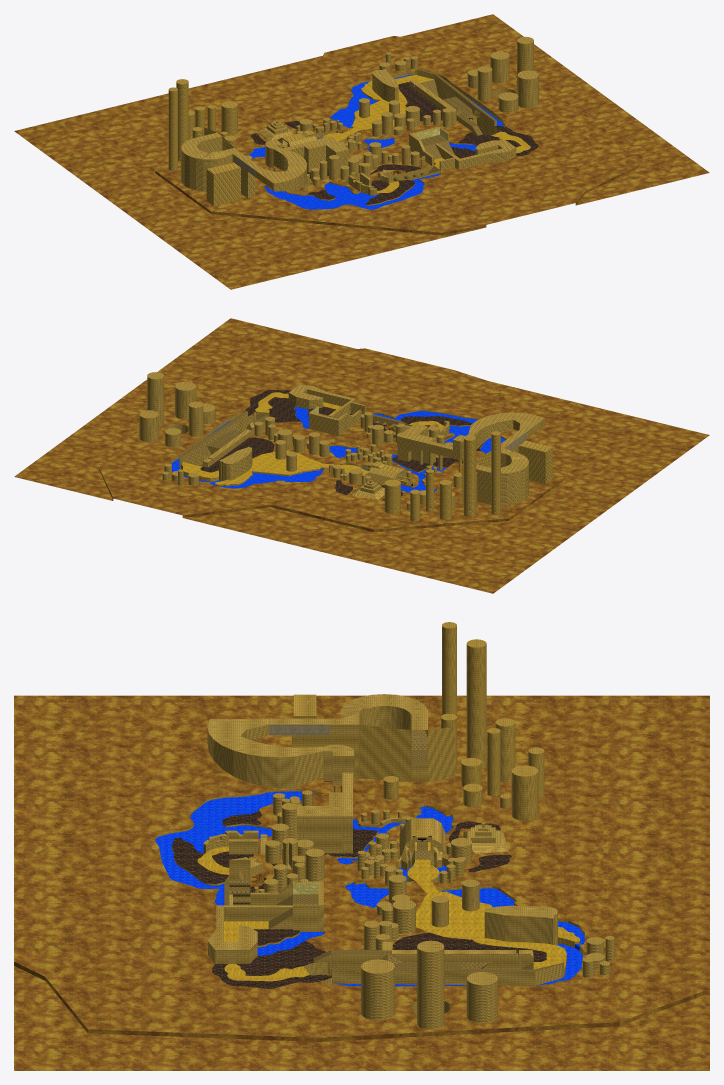
3 renders of one model, top to bottom at view 1: azimuth 30°, elevation 25°; view 2: azimuth 150°, elevation 25°; view 3: azimuth 270°, elevation 25°, orthographic. The views are drawn at different scales.
Parts seen in each view (by area): view 1: Tomb_Of_Anubis_Main-Tile_Limestone_Multi.001, Tomb_Of_Anubis_Main-Material3.001, Tomb_Of_Anubis_Main-Wall.001, Tomb_Of_Anubis_Main-Material9.001, Tomb_Of_Anubis_Main-Material10.001, Tomb_Of_Anubis_Main-Material8.001, Tomb_Of_Anubis_Main-Material1.001, Tomb_Of_Anubis_Main-Tile_Ceramic_Natural.001; view 2: Tomb_Of_Anubis_Main-Tile_Limestone_Multi.001, Tomb_Of_Anubis_Main-Material3.001, Tomb_Of_Anubis_Main-Wall.001, Tomb_Of_Anubis_Main-Material10.001, Tomb_Of_Anubis_Main-Material9.001, Tomb_Of_Anubis_Main-Material1.001, Tomb_Of_Anubis_Main-Material8.001, Tomb_Of_Anubis_Main-Tile_Ceramic_Natural.001; view 3: Tomb_Of_Anubis_Main-Tile_Limestone_Multi.001, Tomb_Of_Anubis_Main-Material3.001, Tomb_Of_Anubis_Main-Wall.001, Tomb_Of_Anubis_Main-Material9.001, Tomb_Of_Anubis_Main-Material10.001, Tomb_Of_Anubis_Main-Material1.001, Tomb_Of_Anubis_Main-Material8.001, Tomb_Of_Anubis_Main-Tile_Ceramic_Natural.001, Tomb_Of_Anubis_Main-Material11.001.
Part boxes in pixels (bbox=[...]): Tomb_Of_Anubis_Main-Tile_Limestone_Multi.001: bbox=[14, 14, 709, 289]; Tomb_Of_Anubis_Main-Material3.001: bbox=[181, 36, 538, 205]; Tomb_Of_Anubis_Main-Wall.001: bbox=[168, 79, 362, 206]; Tomb_Of_Anubis_Main-Material9.001: bbox=[249, 75, 503, 209]; Tomb_Of_Anubis_Main-Material10.001: bbox=[251, 82, 538, 204]; Tomb_Of_Anubis_Main-Material8.001: bbox=[282, 69, 496, 181]; Tomb_Of_Anubis_Main-Material1.001: bbox=[283, 75, 433, 145]; Tomb_Of_Anubis_Main-Tile_Ceramic_Natural.001: bbox=[361, 80, 530, 193]; Tomb_Of_Anubis_Main-Tile_Limestone_Multi.001: bbox=[14, 318, 709, 593]; Tomb_Of_Anubis_Main-Material3.001: bbox=[139, 372, 544, 505]; Tomb_Of_Anubis_Main-Wall.001: bbox=[371, 424, 552, 521]; Tomb_Of_Anubis_Main-Material10.001: bbox=[200, 389, 483, 500]; Tomb_Of_Anubis_Main-Material9.001: bbox=[171, 406, 505, 492]; Tomb_Of_Anubis_Main-Material1.001: bbox=[182, 451, 410, 481]; Tomb_Of_Anubis_Main-Material8.001: bbox=[179, 411, 413, 485]; Tomb_Of_Anubis_Main-Tile_Ceramic_Natural.001: bbox=[215, 392, 444, 484]; Tomb_Of_Anubis_Main-Tile_Limestone_Multi.001: bbox=[14, 695, 709, 1070]; Tomb_Of_Anubis_Main-Material3.001: bbox=[155, 694, 614, 1029]; Tomb_Of_Anubis_Main-Wall.001: bbox=[225, 622, 544, 846]; Tomb_Of_Anubis_Main-Material9.001: bbox=[155, 791, 584, 986]; Tomb_Of_Anubis_Main-Material10.001: bbox=[172, 810, 546, 988]; Tomb_Of_Anubis_Main-Material1.001: bbox=[407, 842, 566, 969]; Tomb_Of_Anubis_Main-Material8.001: bbox=[224, 730, 563, 975]; Tomb_Of_Anubis_Main-Tile_Ceramic_Natural.001: bbox=[197, 846, 579, 981]; Tomb_Of_Anubis_Main-Material11.001: bbox=[269, 724, 329, 735].
Size of the model in its own units: 220734 by 48663 by 172977.
20 materials, 20 textured.
